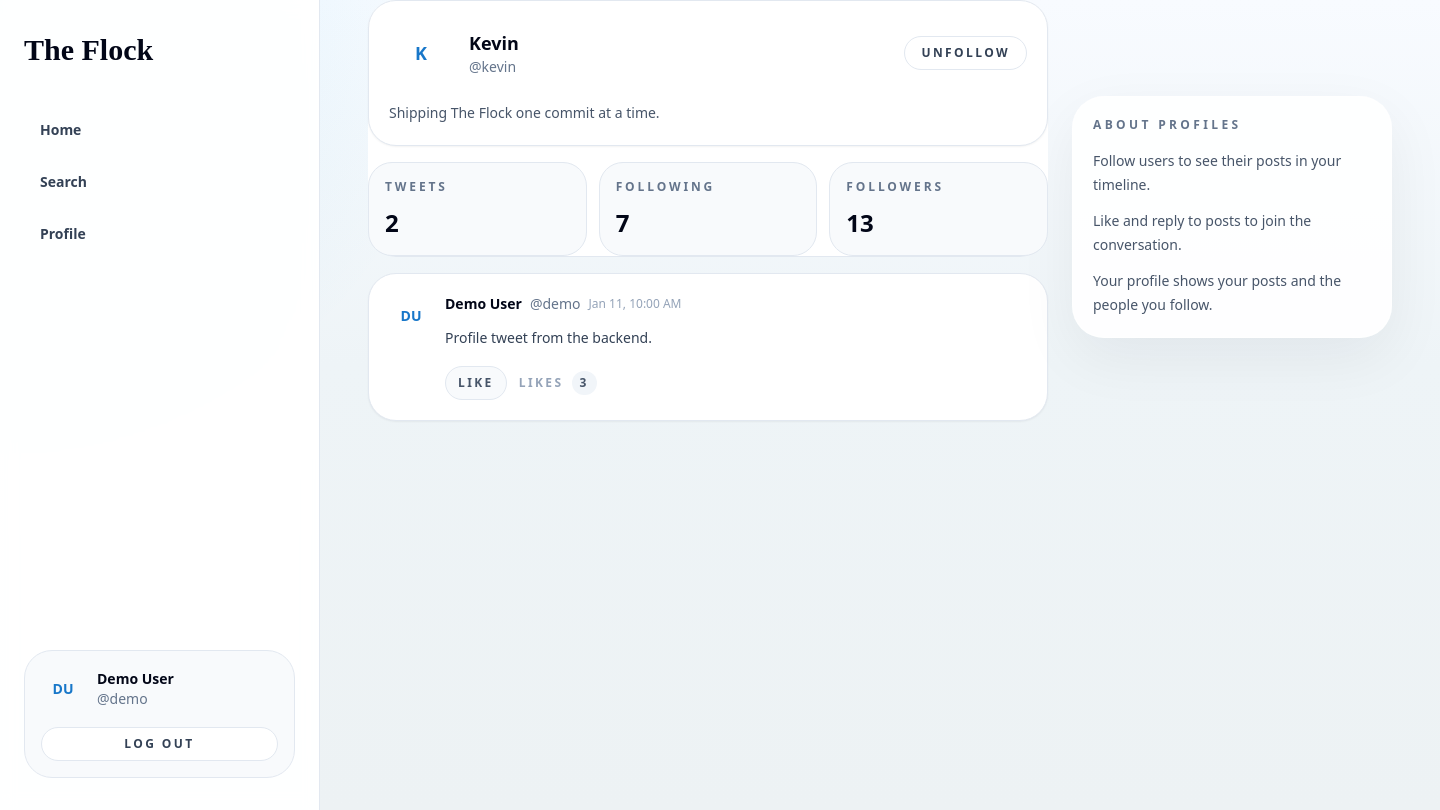
Test: Profile page › unfollows another user successfully
This screenshot has width=1440, height=810.
What coordinates should you click on to do the following:
click the button "Unfollow"
I would click on:
 (966, 53)
Its box is [904, 36, 1027, 70].
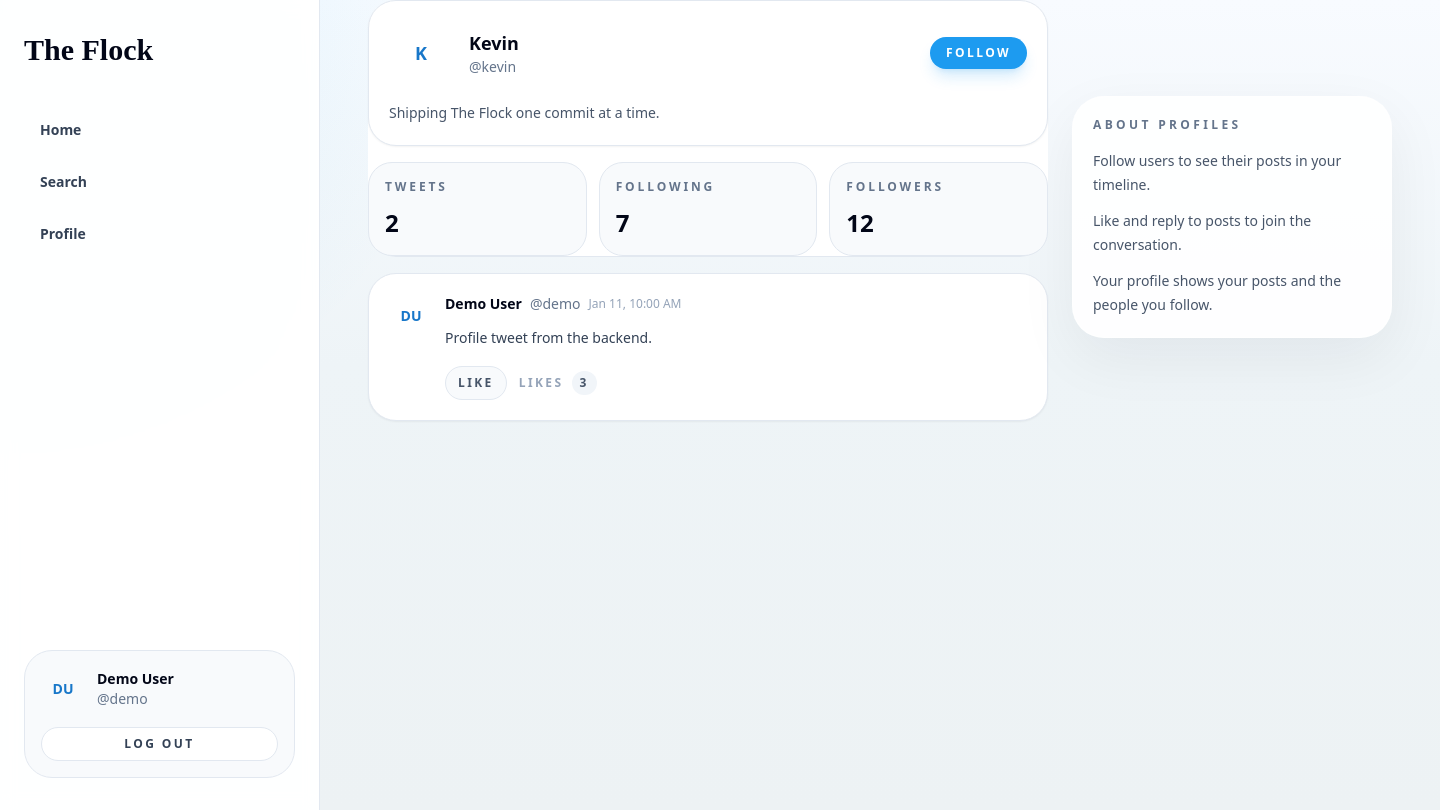
Now the button "Follow" is shown, box [930, 37, 1027, 69]
Now the text "12" is shown, box [846, 206, 874, 239]
